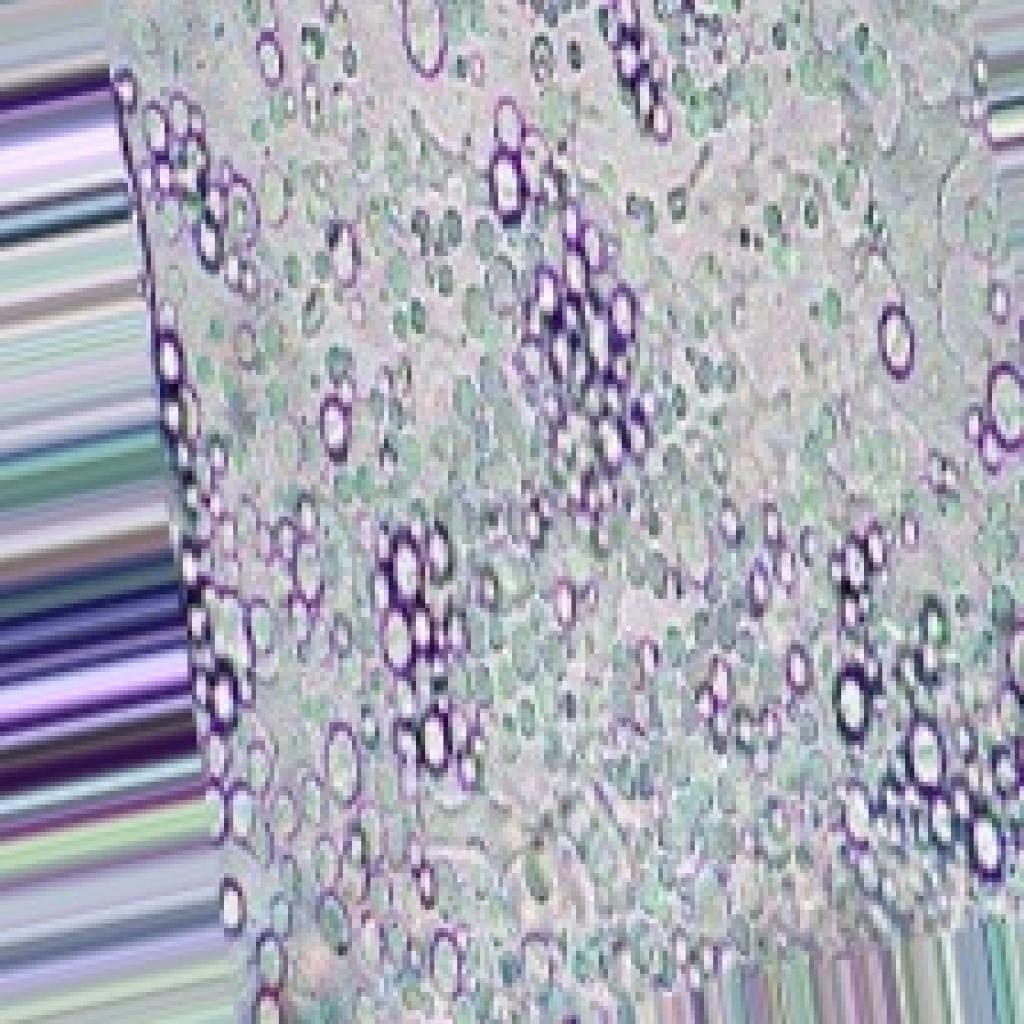Sphericalbacteria: (95, 0, 1019, 1019)
